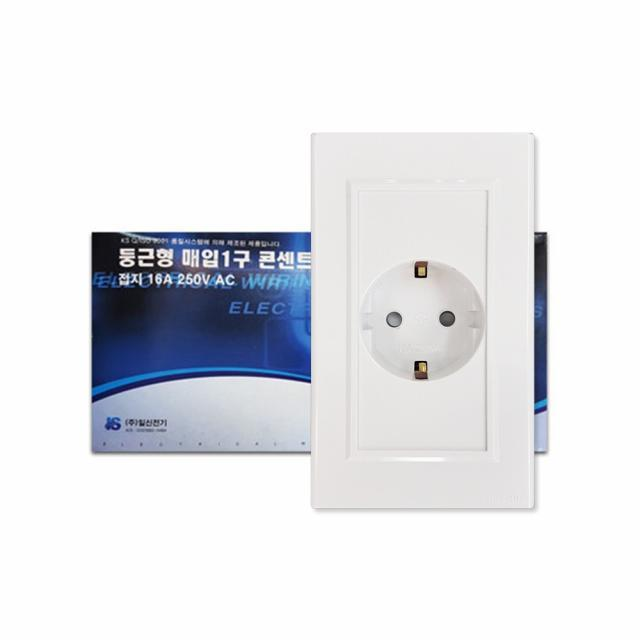typeb: (304, 121, 555, 538)
